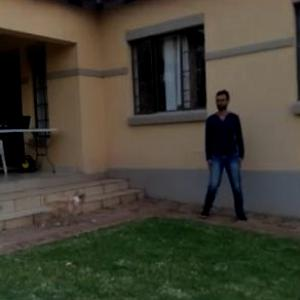follow: (193, 93, 232, 223)
